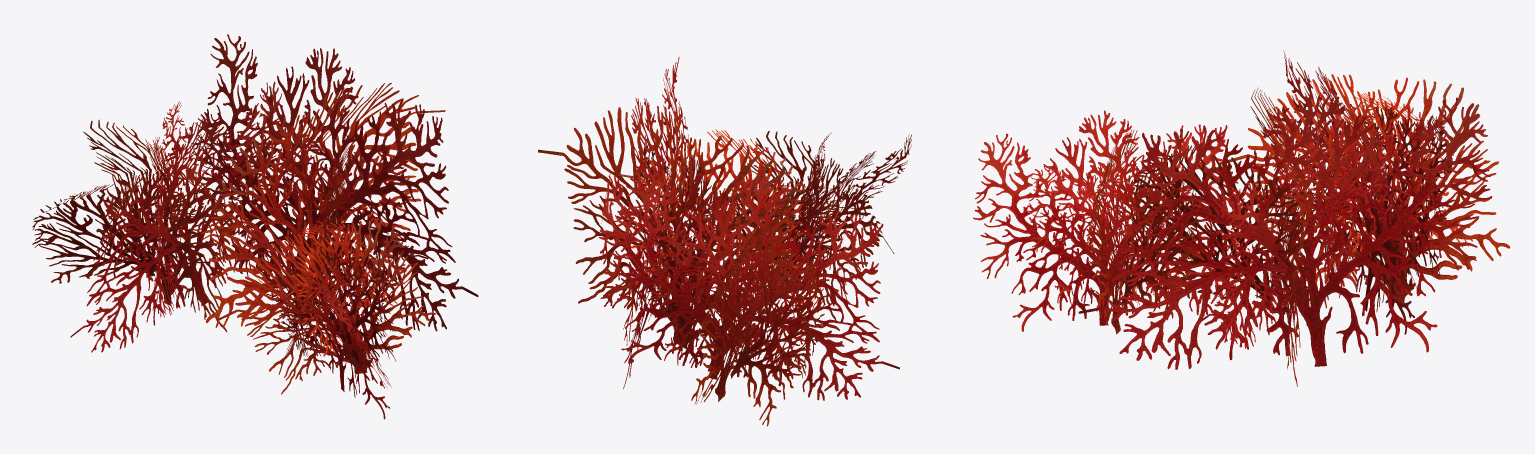
3 renders of one model, left to right at view 1: azimuth 30°, elevation 25°; view 2: azimuth 150°, elevation 25°; view 3: azimuth 270°, elevation 25°, orthographic. The views are drawn at different scales.
Parts seen in each view (by area): view 1: sc01; view 2: sc01; view 3: sc01.
Part boxes in pixels (left/top/right/bottom): sc01: left=32, top=34, right=478, bottom=419; sc01: left=538, top=57, right=911, bottom=426; sc01: left=973, top=50, right=1510, bottom=386.
Size of the model in its own units: 903 by 603 by 948.
